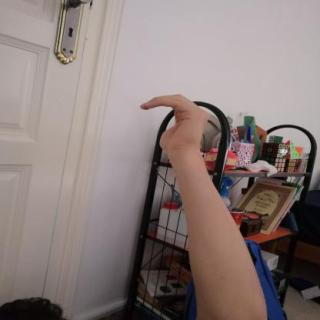HAA: (131, 88, 214, 155)
